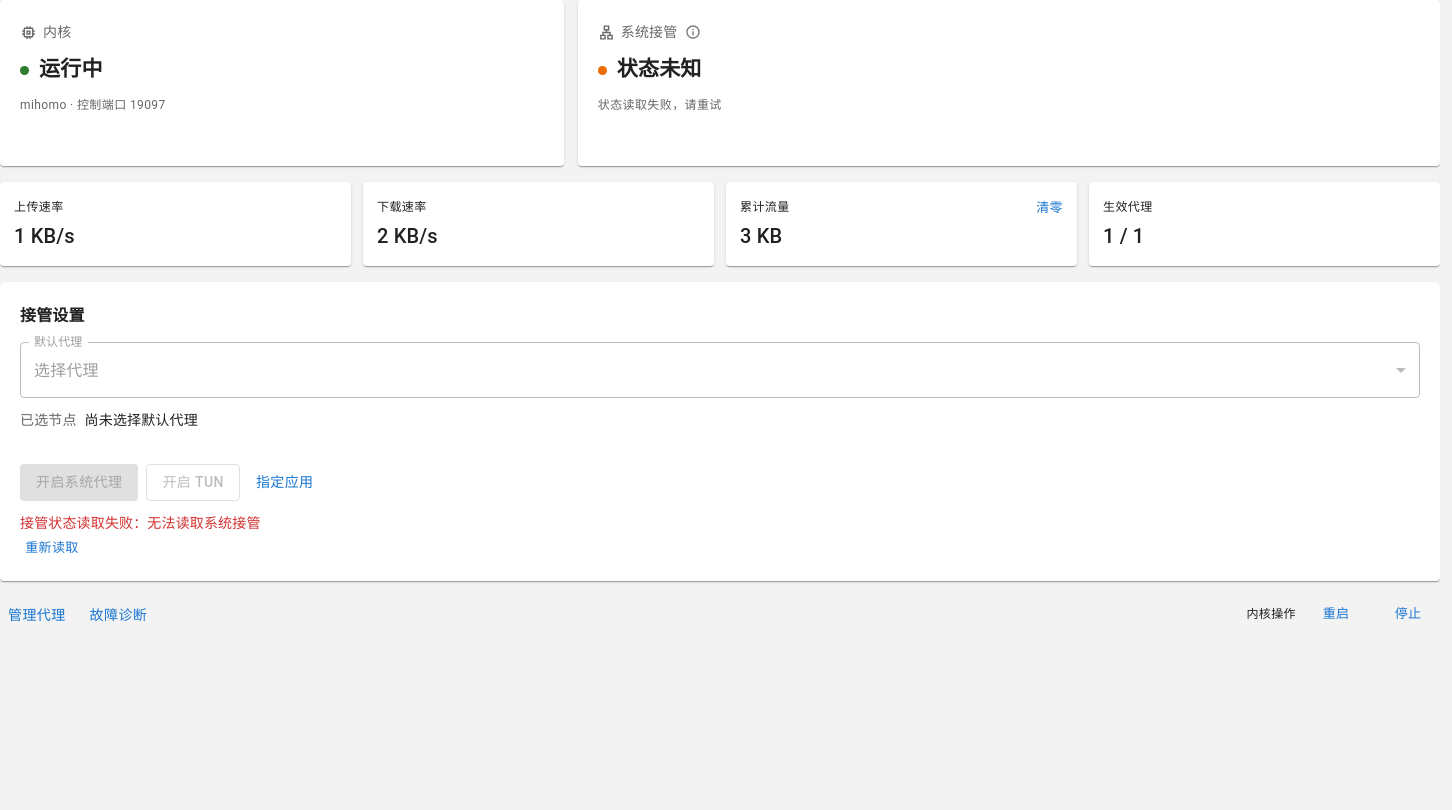
shows desktop failures as unknown and can retry
Expected: the text "状态未知" is shown, [617,54,702,86]
Expected: the text "未开启" is not shown
Click the button "重新读取".
click(52, 548)  # box [20,532,84,563]
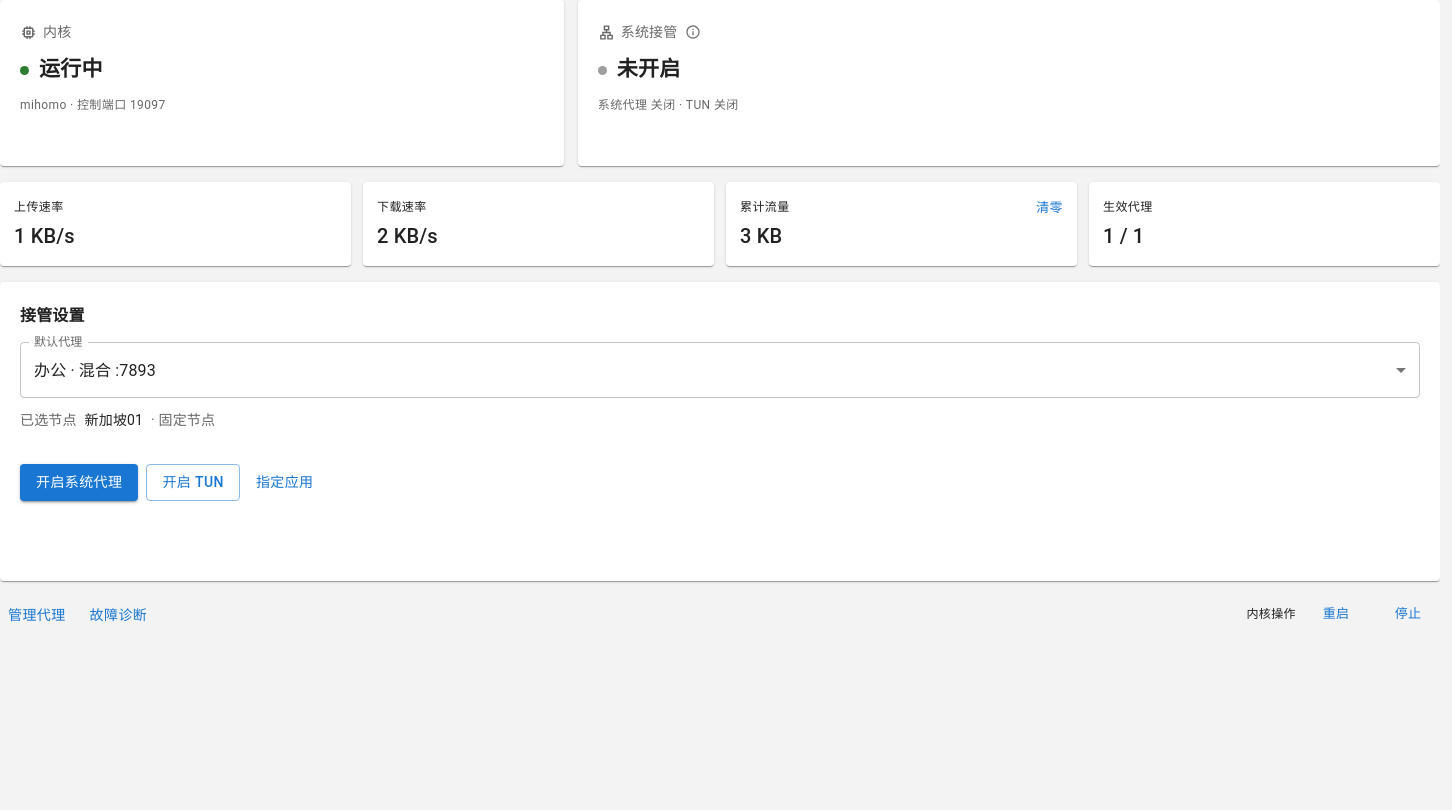
Expected: the text "未开启" is shown, [617,54,680,86]
